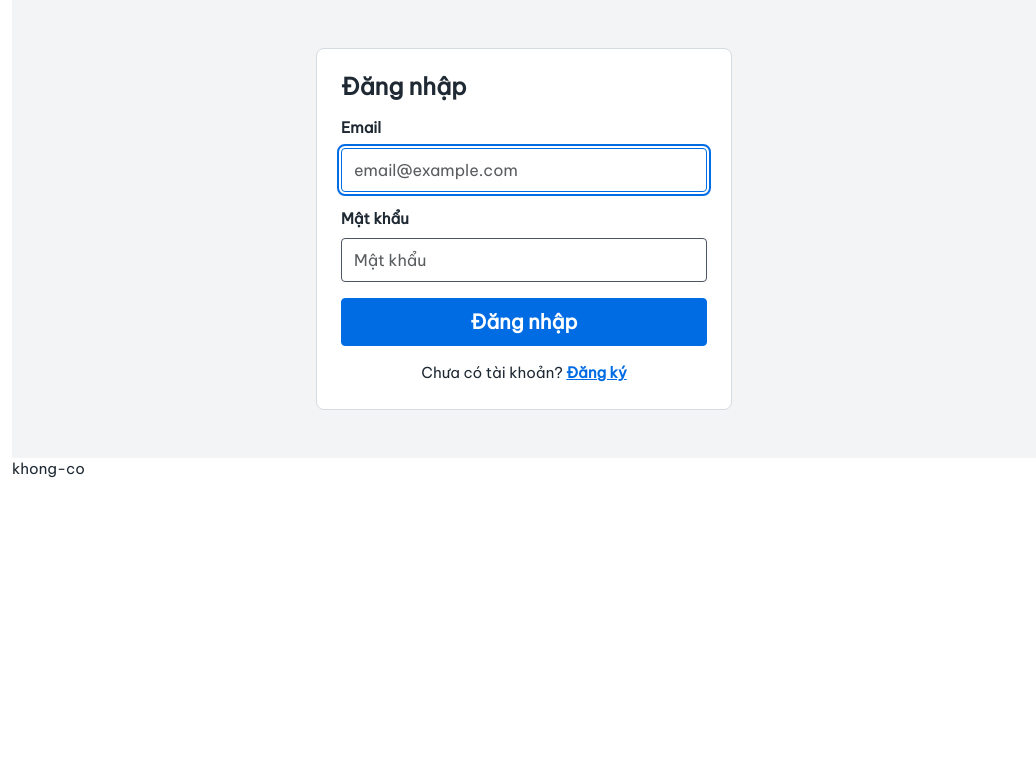
it: chuyển hướng › đăng nhập sai hiện lỗi từ server và ở lại trang
Type "a@test.com" into the field labelled "Email".
click(524, 170); type("a@test.com")  # box [341, 148, 707, 192]
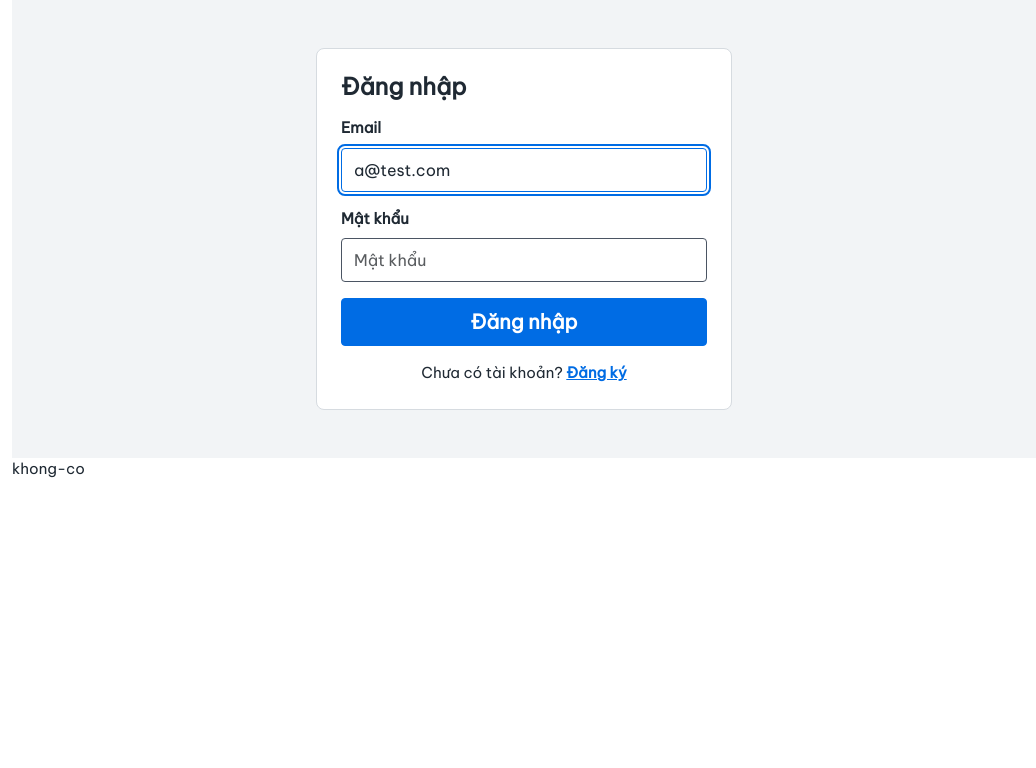
Type "matkhau123" into the password field labelled "Mật khẩu".
click(524, 260); type("matkhau123")  # box [341, 238, 707, 282]
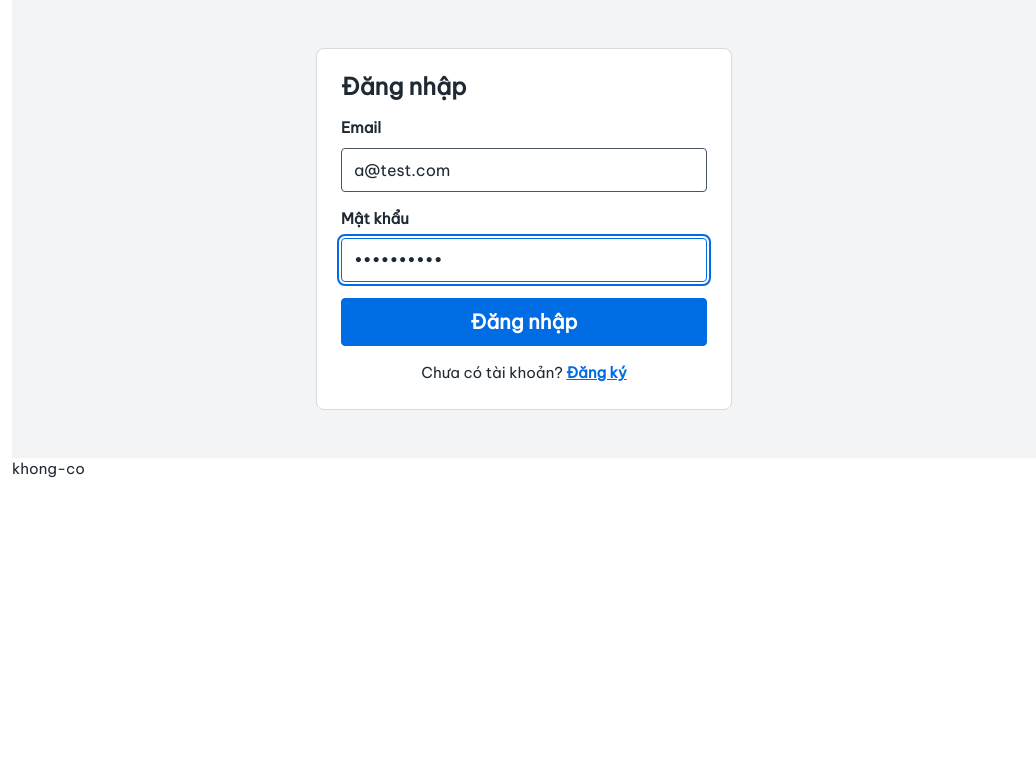
Click the button "Đăng nhập".
click(524, 322)  # box [341, 298, 707, 346]
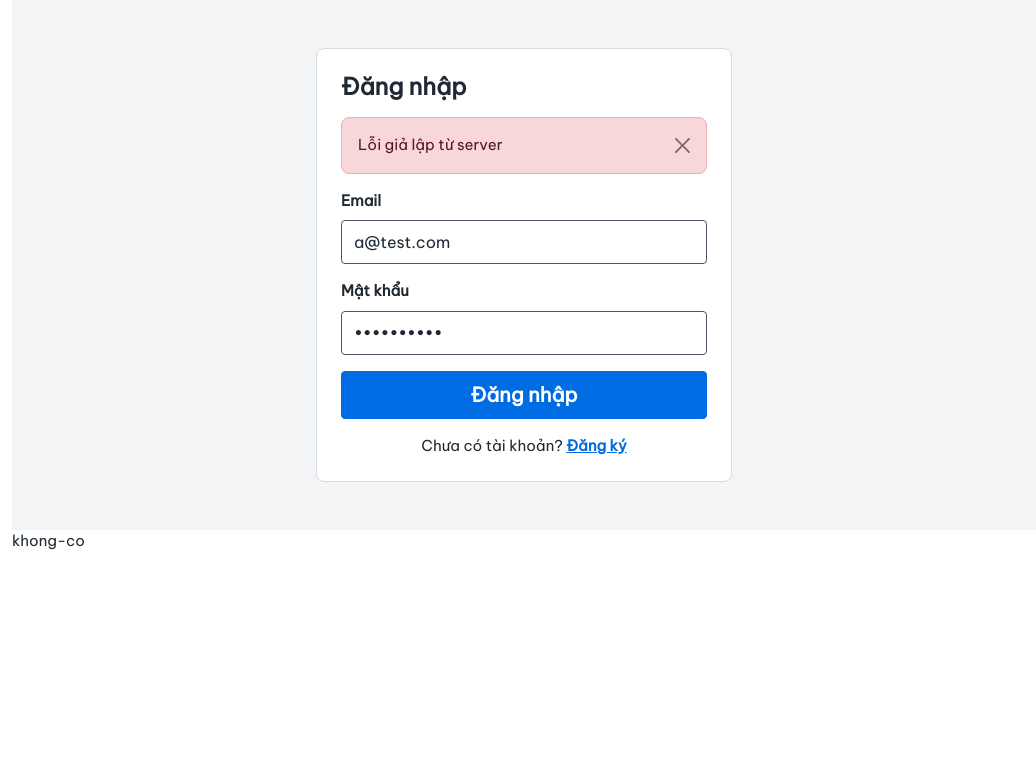
expect the heading "Đăng nhập" is shown: met, box [341, 72, 466, 101]
expect the text "Lỗi giả lập từ server" is shown: met, box [341, 117, 707, 174]
